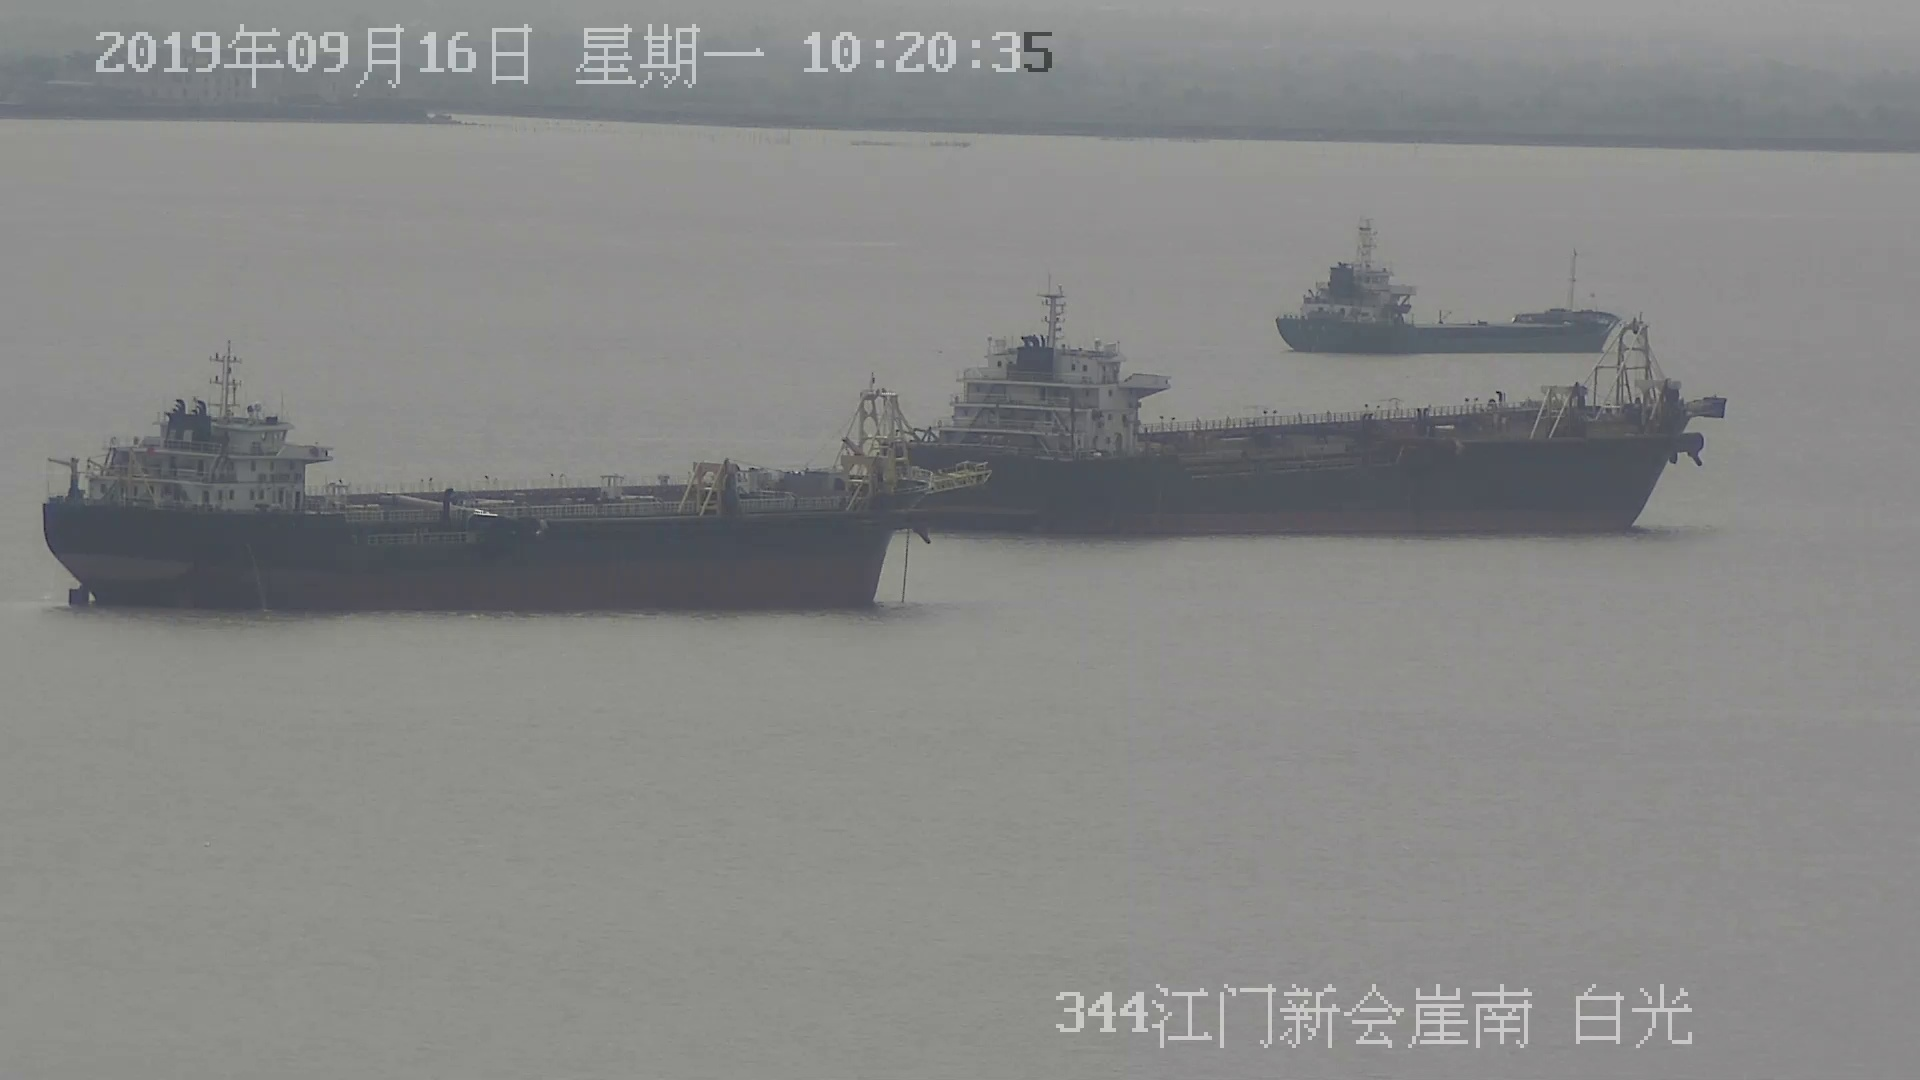ship: (42, 357, 994, 617), (848, 278, 1726, 530), (1284, 222, 1627, 363)
